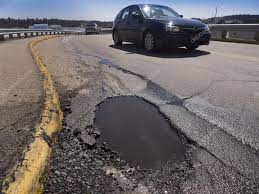potholes: (82, 86, 200, 171)
